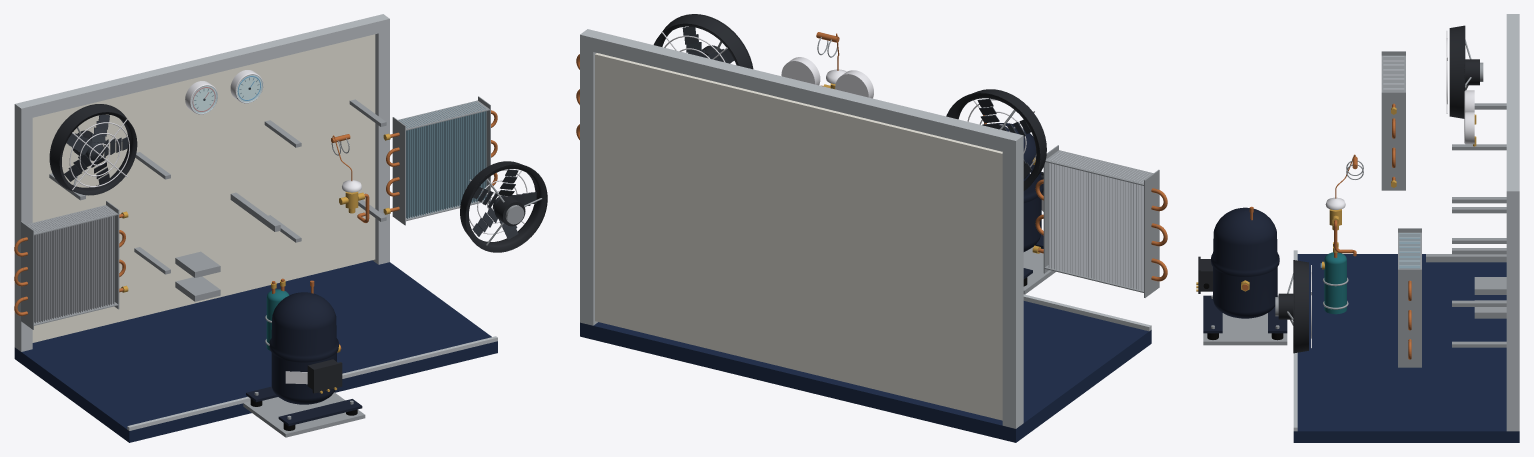
File: VCR_System_Exploded.glb
The picture shows the model from 3 angles, left to right: view 1: azimuth 30°, elevation 25°; view 2: azimuth 150°, elevation 25°; view 3: azimuth 270°, elevation 25°; orthographic projection. The views are drawn at different scales.
Parts seen in each view (by area): view 1: C12_Frame, C02_Condenser, C01_Compressor, C04_Evaporator, C07_EvaporatorFan, C06_CondenserFan, C06_CondenserFan_Rotor, C11_PressureGauges, C07_EvaporatorFan_Rotor, C03_ExpansionValve, C05_ReceiverDrier; view 2: C12_Frame, C02_Condenser, C01_Compressor, C06_CondenserFan, C07_EvaporatorFan, C11_PressureGauges, C06_CondenserFan_Rotor, C07_EvaporatorFan_Rotor, C03_ExpansionValve; view 3: C12_Frame, C01_Compressor, C02_Condenser, C04_Evaporator, C06_CondenserFan, C07_EvaporatorFan, C05_ReceiverDrier, C03_ExpansionValve, C11_PressureGauges.
Part boxes in pixels (x1,y1,x2,y2): C12_Frame: [14, 14, 497, 442]; C02_Condenser: [14, 201, 128, 329]; C01_Compressor: [243, 280, 365, 437]; C04_Evaporator: [383, 96, 497, 225]; C07_EvaporatorFan: [460, 161, 547, 252]; C06_CondenserFan: [49, 104, 137, 195]; C06_CondenserFan_Rotor: [64, 114, 128, 184]; C11_PressureGauges: [185, 70, 263, 114]; C07_EvaporatorFan_Rotor: [472, 169, 536, 239]; C03_ExpansionValve: [331, 134, 369, 222]; C05_ReceiverDrier: [265, 278, 289, 350]; C12_Frame: [580, 29, 1151, 442]; C02_Condenser: [1032, 145, 1167, 297]; C01_Compressor: [983, 115, 1055, 294]; C06_CondenserFan: [946, 89, 1046, 190]; C07_EvaporatorFan: [653, 14, 753, 69]; C11_PressureGauges: [781, 57, 873, 98]; C06_CondenserFan_Rotor: [977, 98, 1031, 178]; C07_EvaporatorFan_Rotor: [682, 27, 734, 63]; C03_ExpansionValve: [816, 32, 846, 89]; C12_Frame: [1293, 14, 1519, 442]; C01_Compressor: [1196, 206, 1287, 345]; C02_Condenser: [1381, 51, 1405, 190]; C04_Evaporator: [1398, 228, 1421, 367]; C06_CondenserFan: [1446, 25, 1483, 118]; C07_EvaporatorFan: [1275, 260, 1311, 353]; C05_ReceiverDrier: [1320, 242, 1348, 314]; C03_ExpansionValve: [1325, 154, 1363, 256]; C11_PressureGauges: [1464, 90, 1476, 146].
Bounding box in the file's own units: 1.73 × 0.895 × 1.
